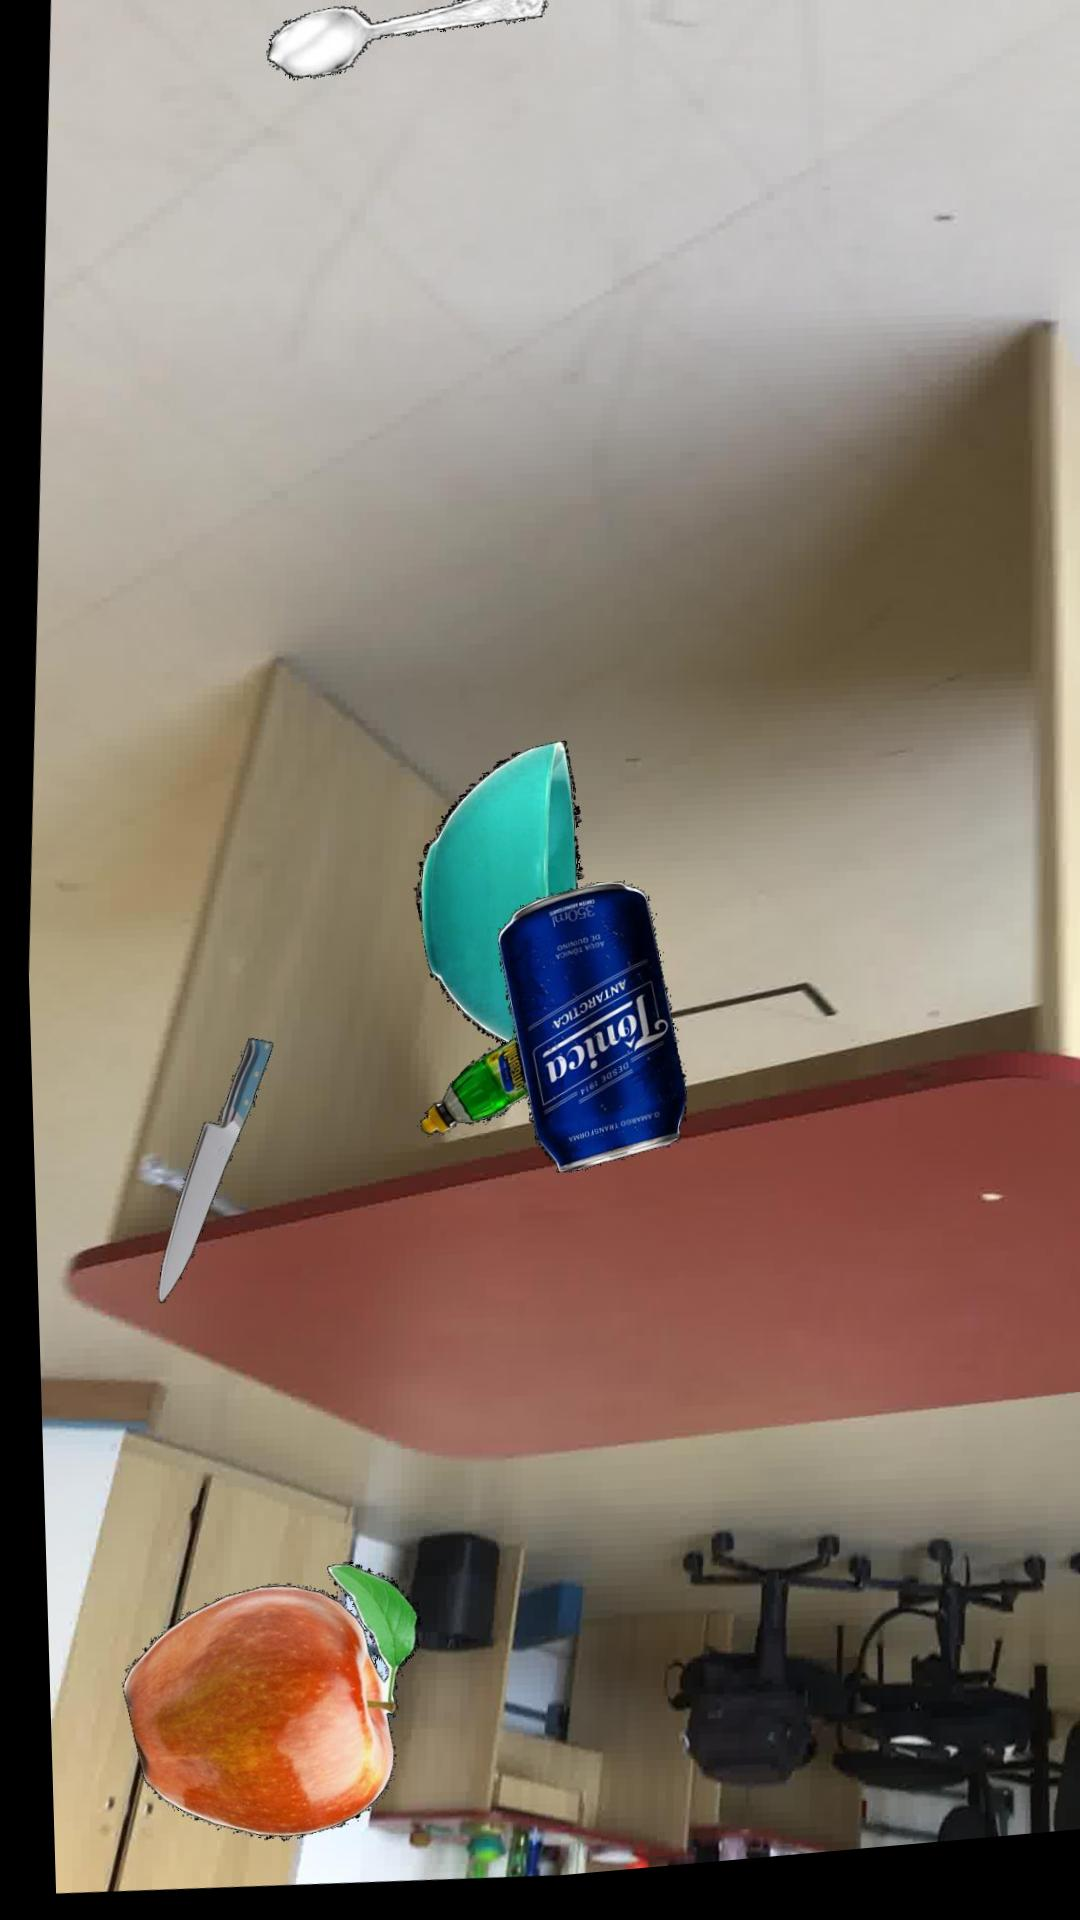apple: (109, 1567, 409, 1844)
bowl: (405, 750, 574, 1054)
cleaner: (410, 1047, 518, 1142)
knife: (148, 1043, 264, 1305)
spoon: (264, 0, 545, 84)
tonic: (488, 893, 676, 1183)
